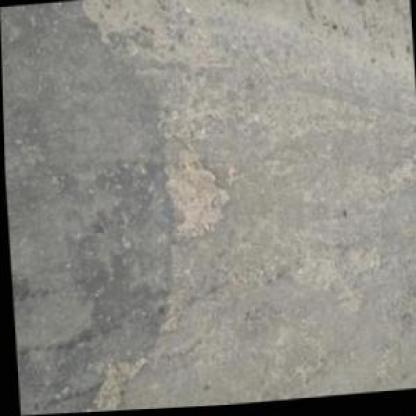pothole: (162, 158, 235, 247), (89, 367, 122, 412)
